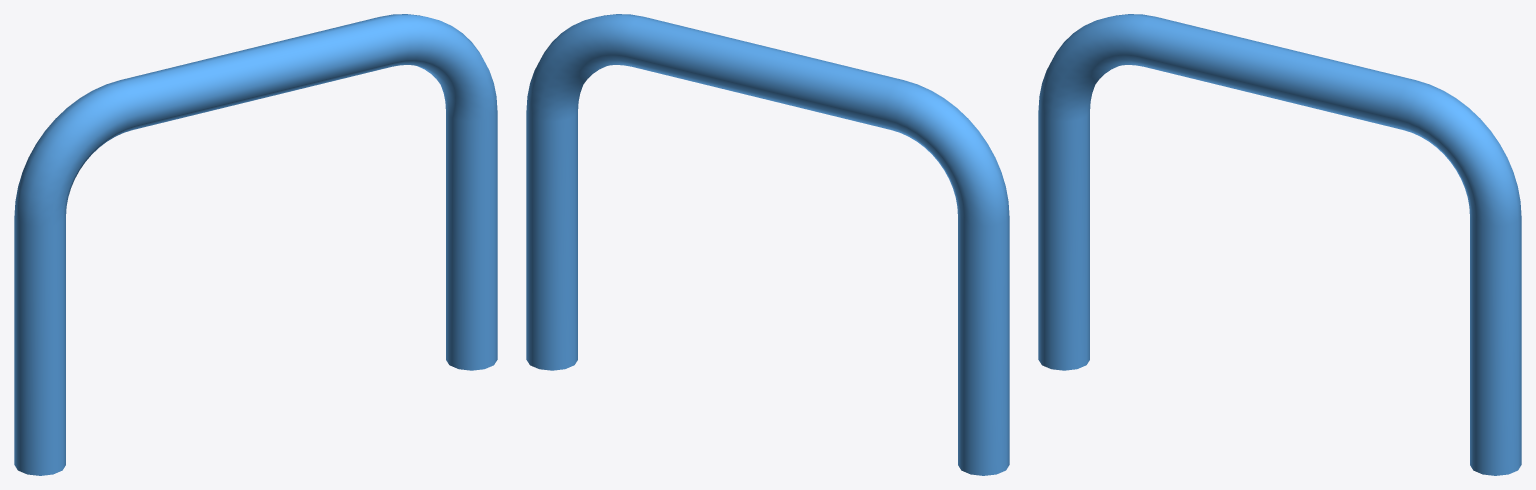
Rendered from gateLargeWide_teamBlue.glb.
3 renders of one model, left to right at view 1: azimuth 30°, elevation 25°; view 2: azimuth 150°, elevation 25°; view 3: azimuth 330°, elevation 25°, orthographic.
Parts seen in each view (by area): view 1: gateLargeWide_teamBlue; view 2: gateLargeWide_teamBlue; view 3: gateLargeWide_teamBlue.
Boxes of the visible parts, bbox=[...] form: gateLargeWide_teamBlue: bbox=[14, 14, 497, 475]; gateLargeWide_teamBlue: bbox=[526, 14, 1009, 475]; gateLargeWide_teamBlue: bbox=[1038, 14, 1521, 475].
Size of the model in its own units: 1.32 by 0.96 by 0.1238.
